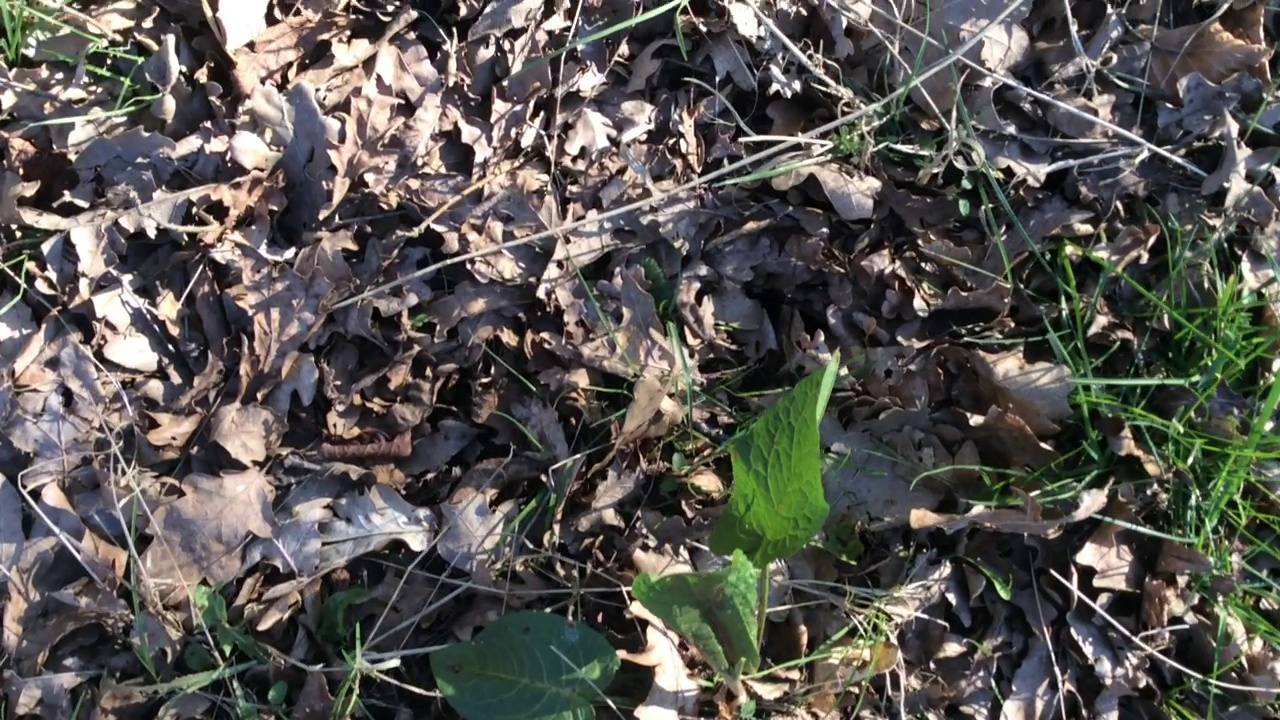rumex: (429, 357, 840, 720)
